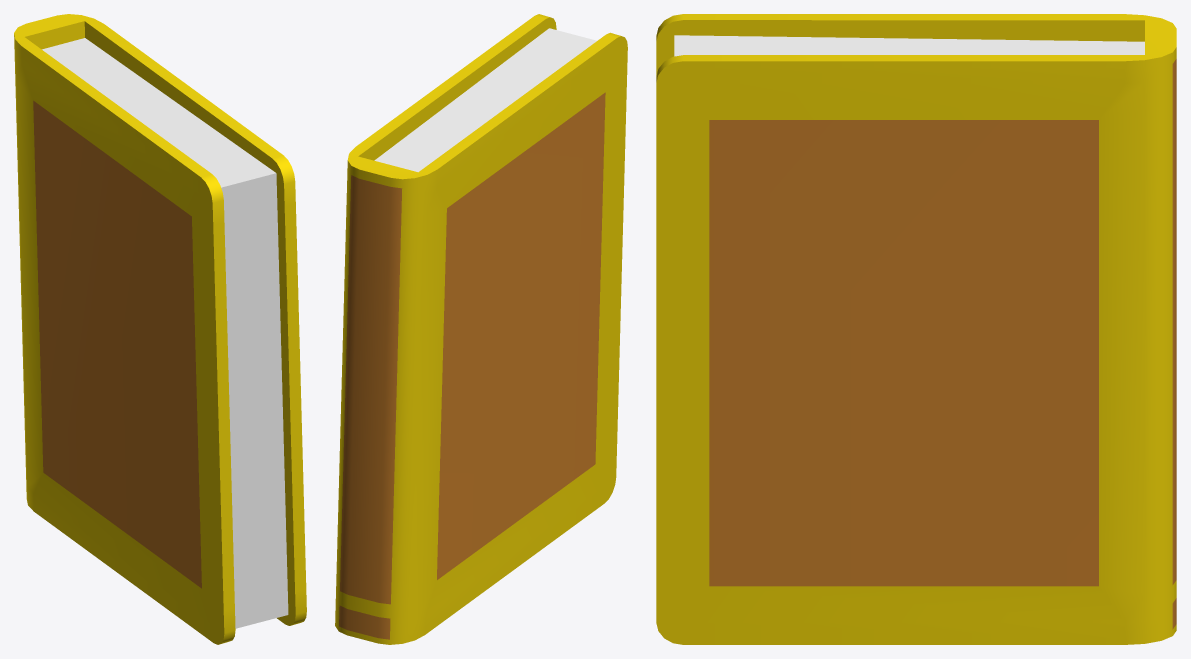
Rendered from book_8.fbx.
3 views of the same model, side by side, from view 1: azimuth 30°, elevation 25°; view 2: azimuth 150°, elevation 25°; view 3: azimuth 270°, elevation 25° (orthographic). The views are drawn at different scales.
Visible parts, largest first — view 1: book_8; view 2: book_8; view 3: book_8.
Boxes of the visible parts, x1=… form: book_8: x1=14, y1=14, x2=306, y2=644; book_8: x1=335, y1=14, x2=627, y2=644; book_8: x1=656, y1=14, x2=1176, y2=644.
Size of the model in its own units: 0.0664 by 0.3136 by 0.2557.
